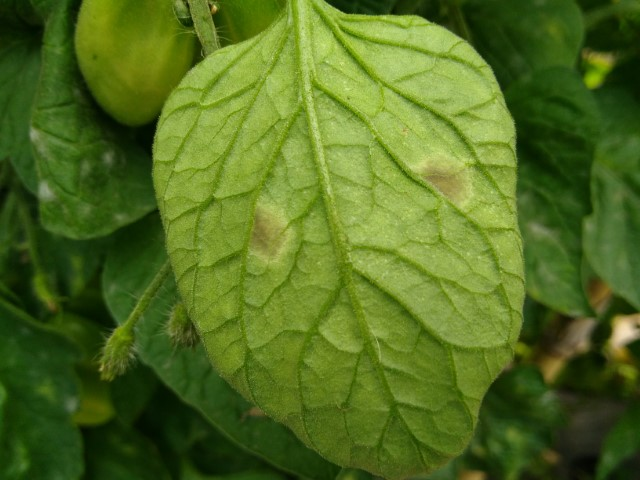negra: (410, 153, 474, 205), (245, 199, 287, 263)
